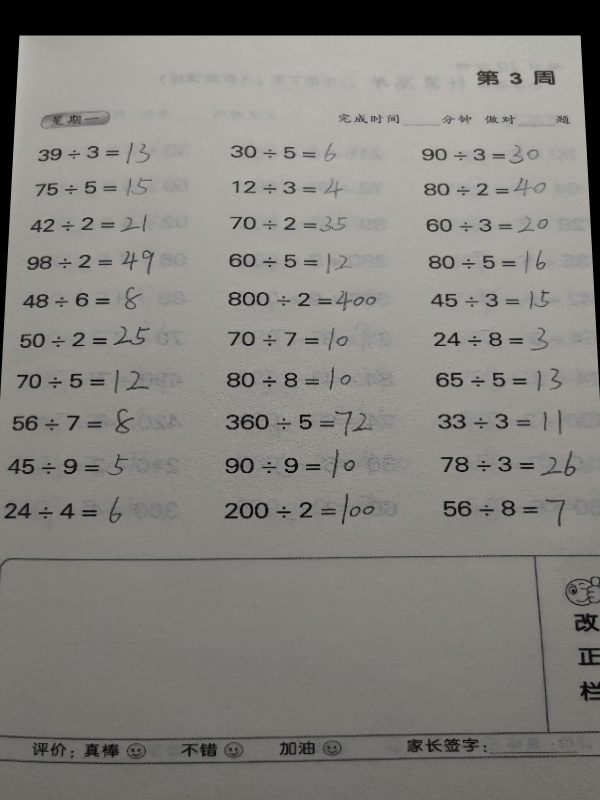equation: (221, 490, 379, 529), (222, 407, 376, 440), (222, 445, 358, 482), (439, 493, 575, 528), (436, 450, 579, 483), (1, 493, 126, 528), (7, 402, 139, 435), (434, 406, 566, 439), (223, 363, 359, 395), (23, 246, 157, 278), (225, 287, 381, 314), (13, 367, 152, 397), (4, 450, 133, 481), (431, 366, 564, 396), (424, 248, 548, 278), (223, 325, 351, 354), (16, 323, 153, 350), (226, 137, 343, 168), (426, 287, 553, 314), (224, 250, 350, 277), (228, 174, 349, 202), (19, 283, 143, 310), (430, 323, 552, 350), (418, 141, 541, 167), (36, 139, 153, 166), (420, 176, 550, 200), (26, 212, 149, 237), (31, 174, 155, 198), (423, 215, 553, 236), (225, 212, 348, 233)
